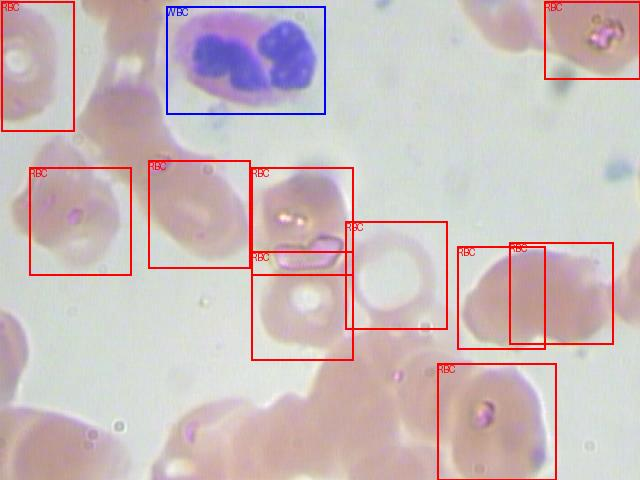RBC: (437, 363, 556, 480), (251, 251, 353, 360), (251, 167, 353, 275), (345, 221, 447, 329), (148, 160, 250, 268), (29, 167, 131, 275), (509, 242, 613, 344), (1, 1, 74, 131), (457, 246, 545, 349), (544, 1, 640, 79)
WBC: (166, 6, 325, 114)
